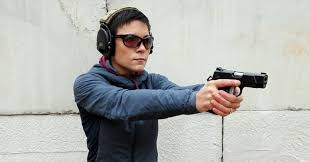Gun: (211, 67, 270, 94)
